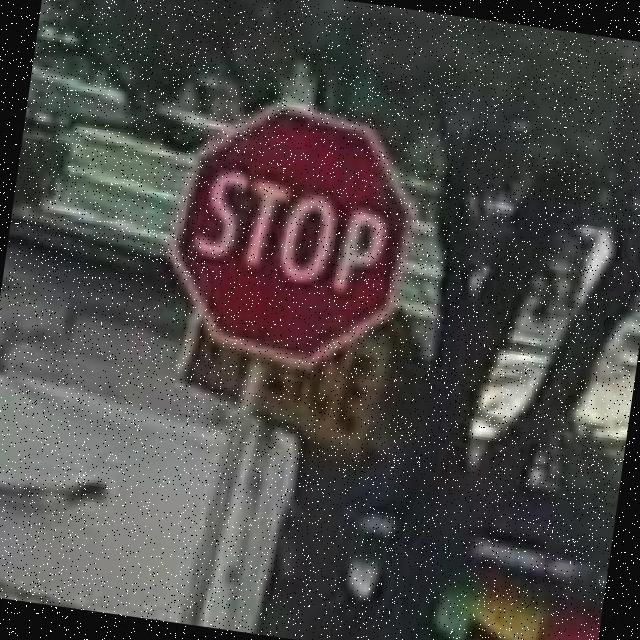Stop: (161, 92, 417, 370)
